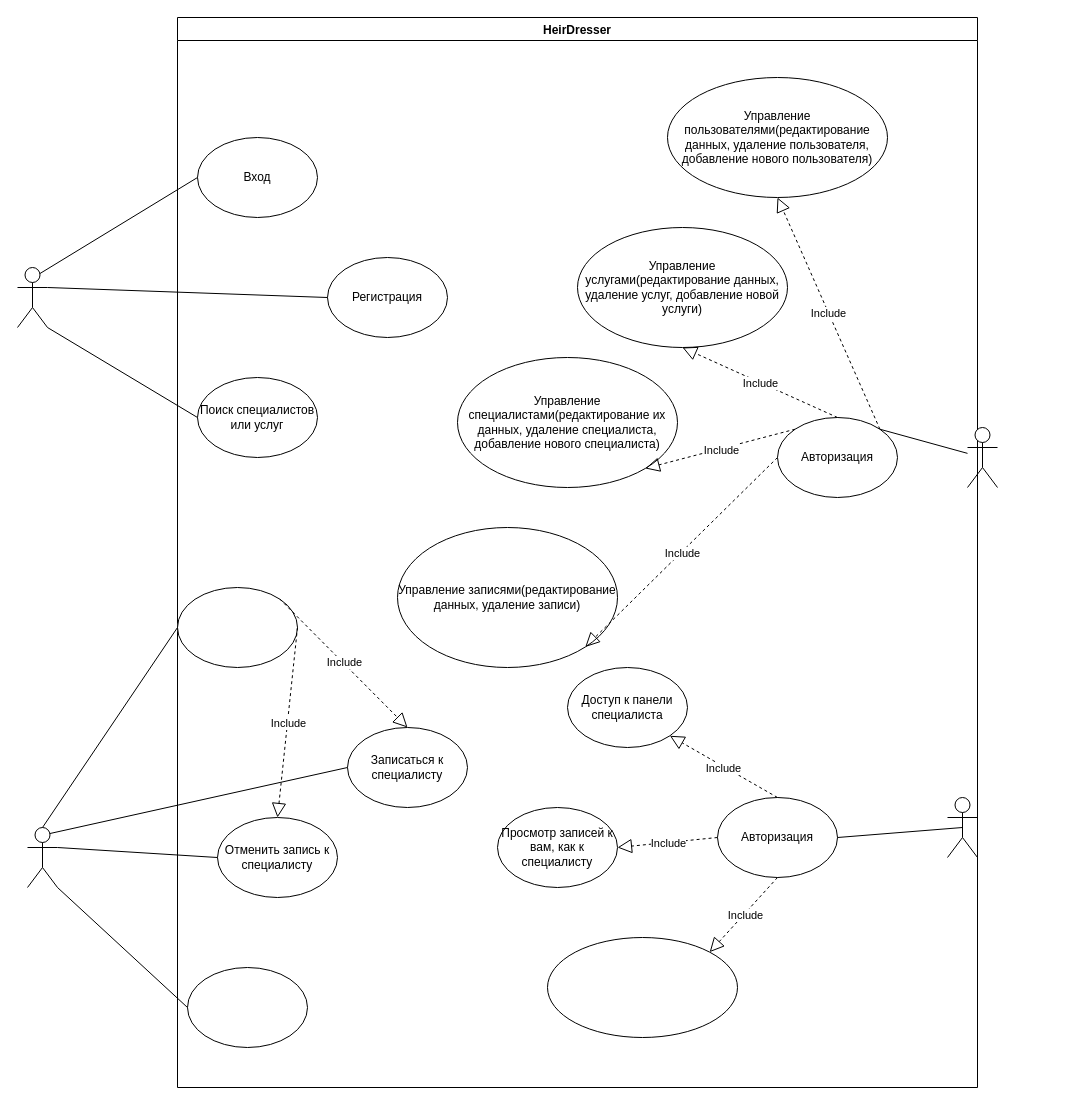
Some shapes in this 1076 by 1105 pixel diagram are drawn without their labels. The box of each missing label's shape, as (x1, y1, x2, y2) in pixels:
Возможность просмотреть состояние записи, а так же изменить его на "Завершен": (546, 936, 738, 1038)
Гость: (16, 266, 48, 328)
Клиент: (26, 826, 58, 888)
Мастер: (946, 796, 978, 858)
Просмотр специалистов и их услуг: (186, 966, 308, 1048)
Регистрация и последующая авторизация: (176, 586, 298, 668)
Системный администратор: (966, 426, 998, 488)
